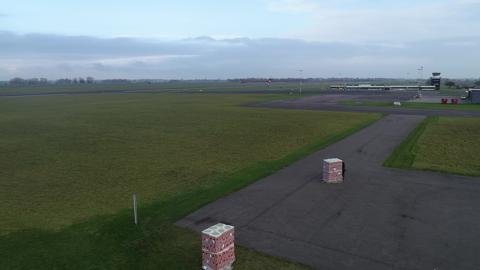RockwoolPallet: (323, 158, 344, 184)
